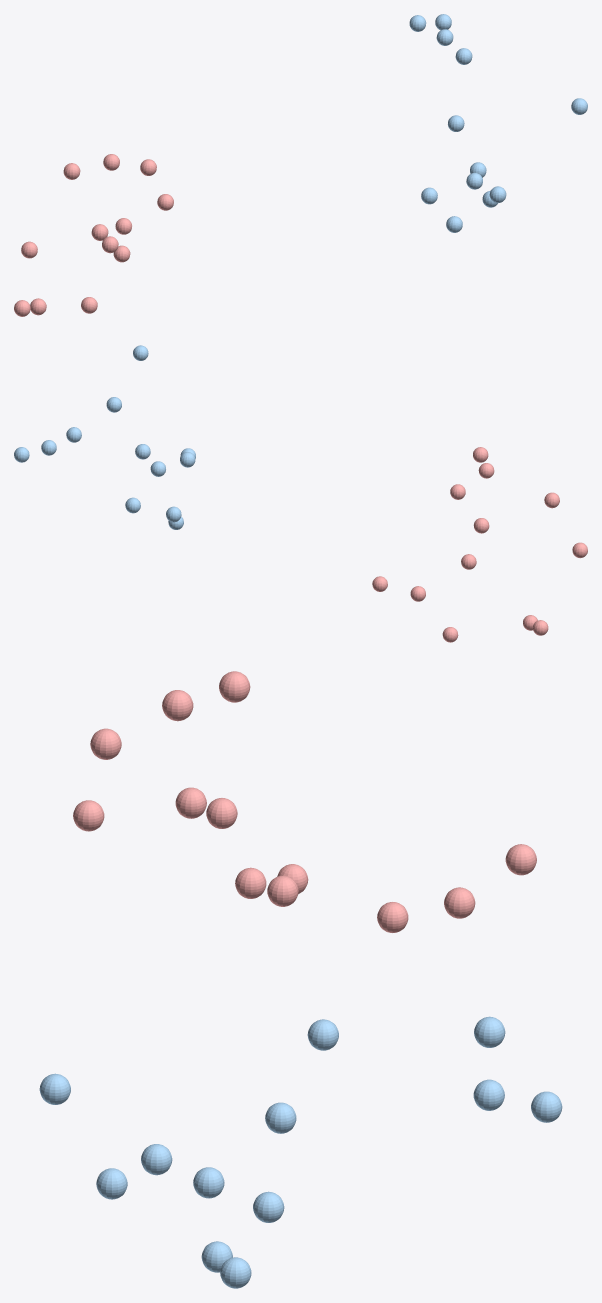
The model's file is asset.glb.
3 renders of one model, top to bottom at view 1: azimuth 30°, elevation 25°; view 2: azimuth 150°, elevation 25°; view 3: azimuth 270°, elevation 25°, orthographic. The views are drawn at different scales.
Visible parts, largest first — view 1: no part large enough to name; view 2: no part large enough to name; view 3: MolA_00, MolA_04, MolA_09, MolB_05, MolB_11, MolB_08, MolA_02, MolA_10, MolB_09, MolA_11, MolA_03, MolA_08 (+10 smaller).
Boxes of the visible parts, x1,y1,x2,y2 form: MolA_00: [90, 728, 121, 759]; MolA_04: [73, 800, 104, 831]; MolA_09: [267, 875, 298, 906]; MolB_05: [265, 1102, 296, 1133]; MolB_11: [193, 1167, 224, 1198]; MolB_08: [220, 1257, 251, 1288]; MolA_02: [444, 887, 475, 918]; MolA_10: [175, 787, 206, 818]; MolB_09: [96, 1168, 127, 1199]; MolA_11: [505, 844, 536, 875]; MolA_03: [219, 671, 250, 702]; MolA_08: [162, 690, 193, 721].
Bounding box in the file's own units: 12.52 × 3.7 × 5.99.
